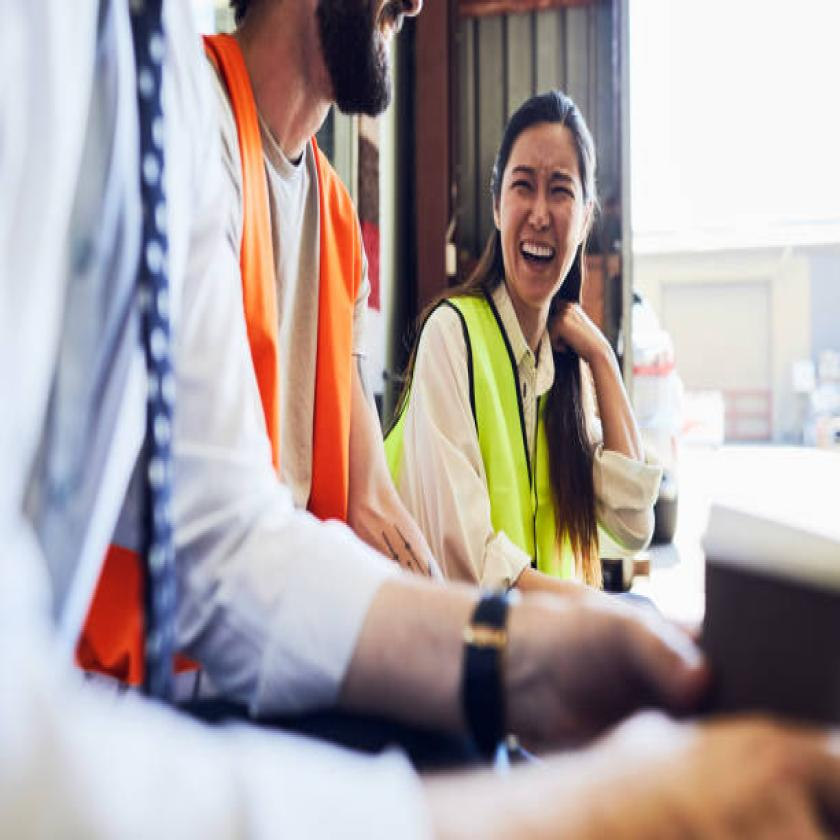Sin_casco: (489, 90, 596, 332)
